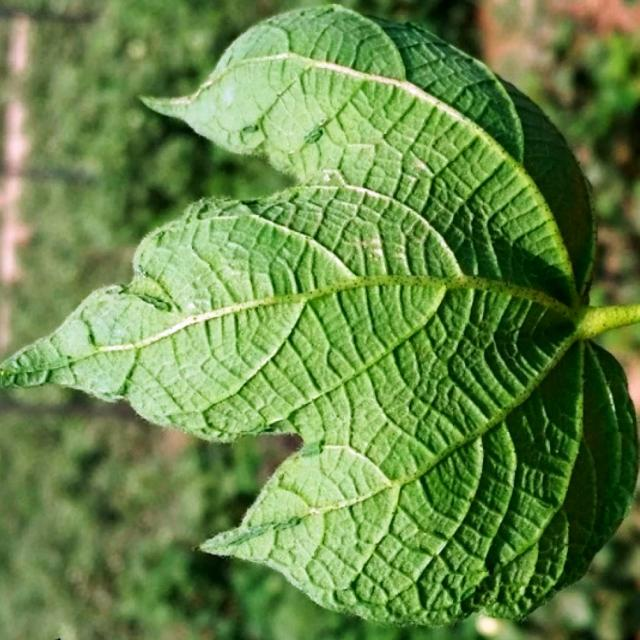Leaf Curl Virus: (221, 37, 640, 616)
